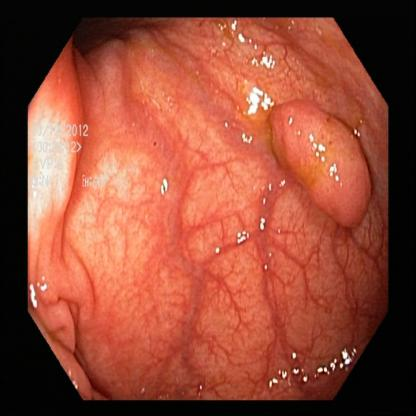Polyps: (278, 95, 364, 219), (31, 120, 107, 213)
